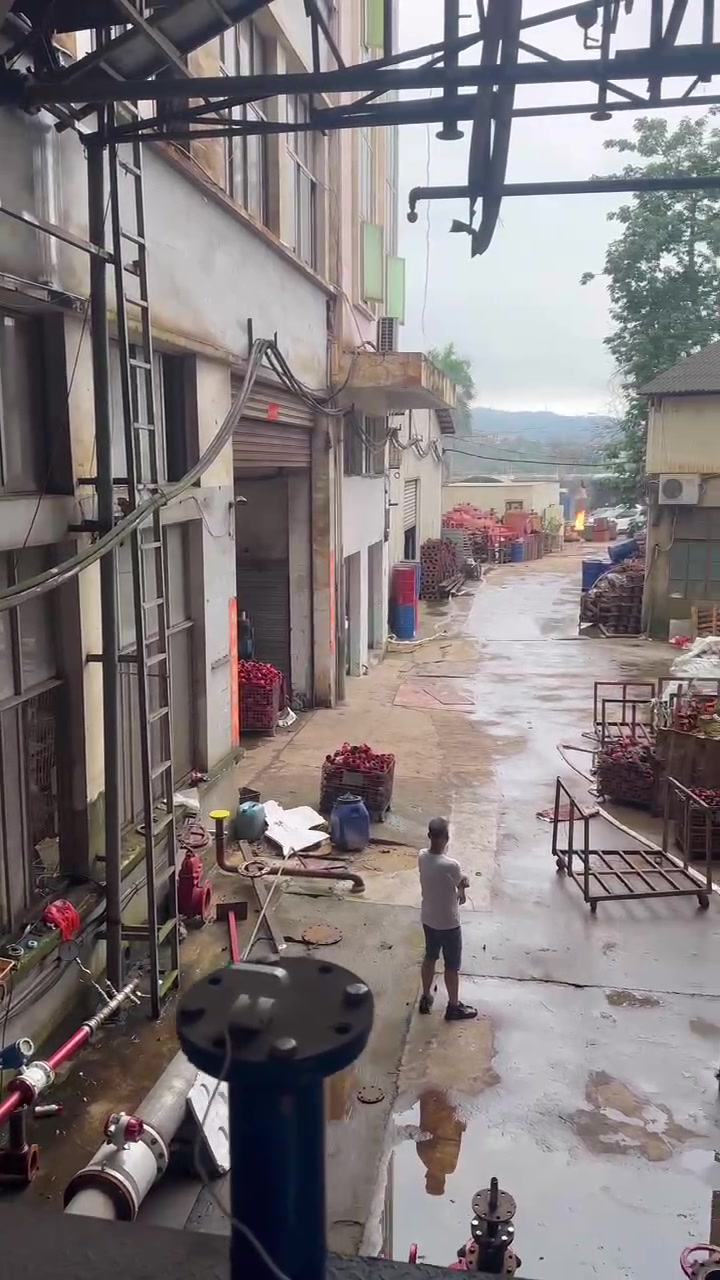fire: (574, 509, 584, 529)
